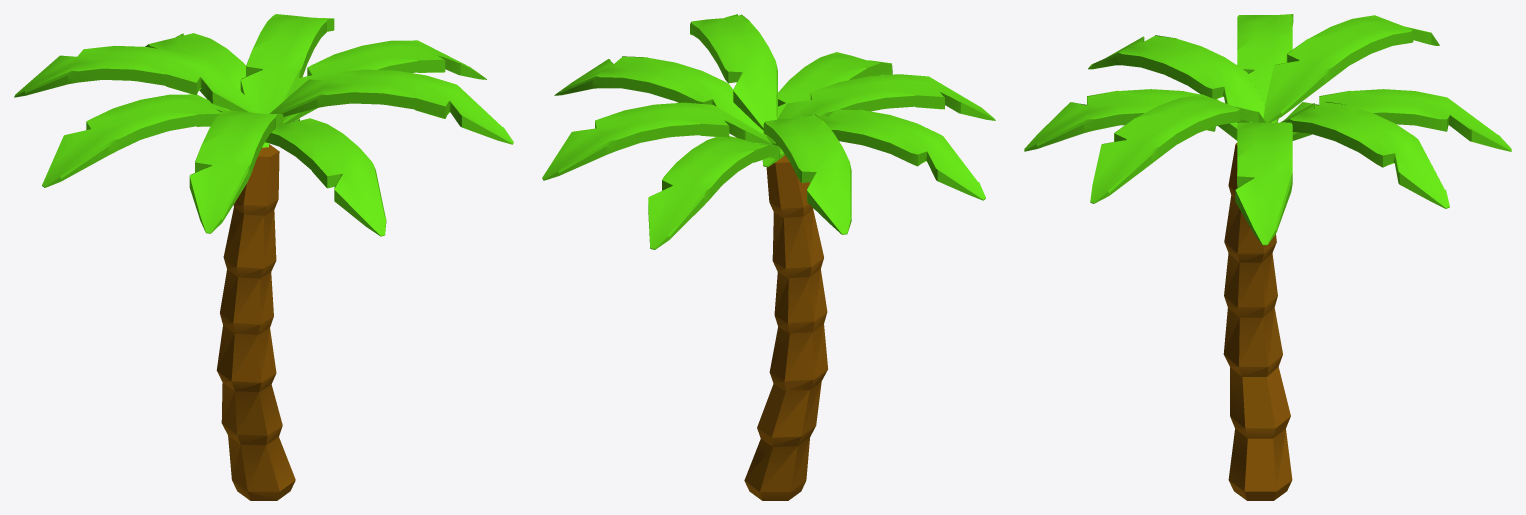
Rendered from palm.fbx.
3 renders of one model, left to right at view 1: azimuth 30°, elevation 25°; view 2: azimuth 150°, elevation 25°; view 3: azimuth 270°, elevation 25°, orthographic. The views are drawn at different scales.
Parts seen in each view (by area): view 1: Cylinder.040; view 2: Cylinder.040; view 3: Cylinder.040.
Boxes of the visible parts, <box> form: Cylinder.040: <box>14,14,513,500</box>; Cylinder.040: <box>542,14,995,500</box>; Cylinder.040: <box>1024,14,1511,500</box>.
Bounding box in the file's own units: 370 × 335 × 354.
